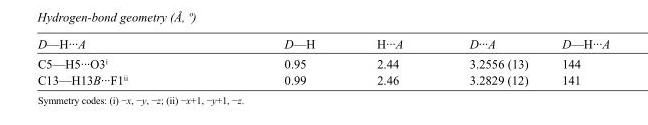table: (36, 36, 609, 86)
table column: (36, 36, 205, 86), (205, 36, 345, 86), (435, 36, 544, 86), (345, 36, 435, 86), (544, 36, 609, 86)
table row: (36, 53, 609, 71), (36, 36, 609, 53), (36, 71, 609, 86)
